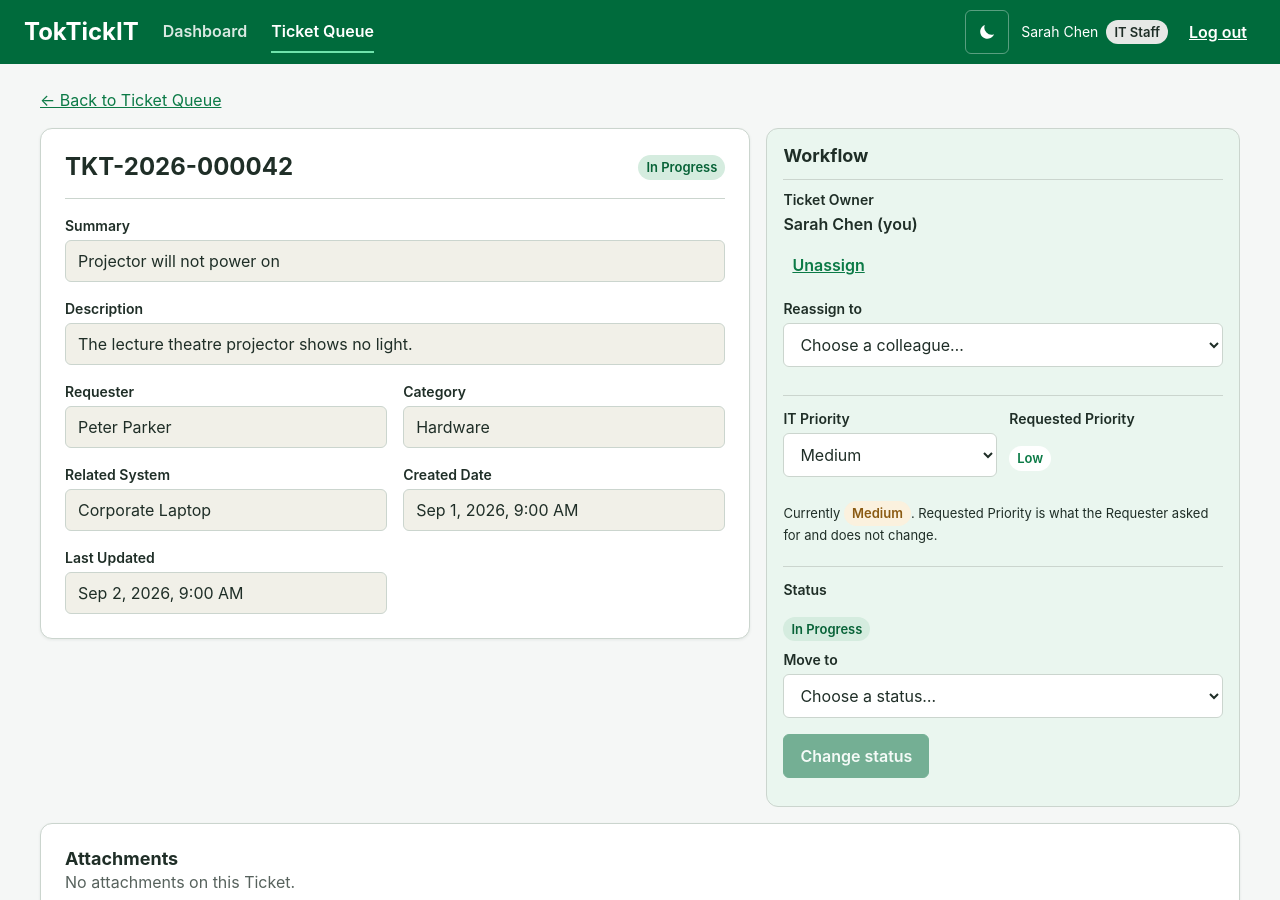
Test: UI-14 a refused change (AC-29) › shows the stale message beside the control and brings the Ticket up to date
Expected: the heading "TKT-2026-000042" is shown, x1=65 y1=153 x2=293 y2=182
Select "Waiting for Requester" in the dropdown labelled "Move to" at (1003, 696), box x1=783 y1=674 x2=1223 y2=718
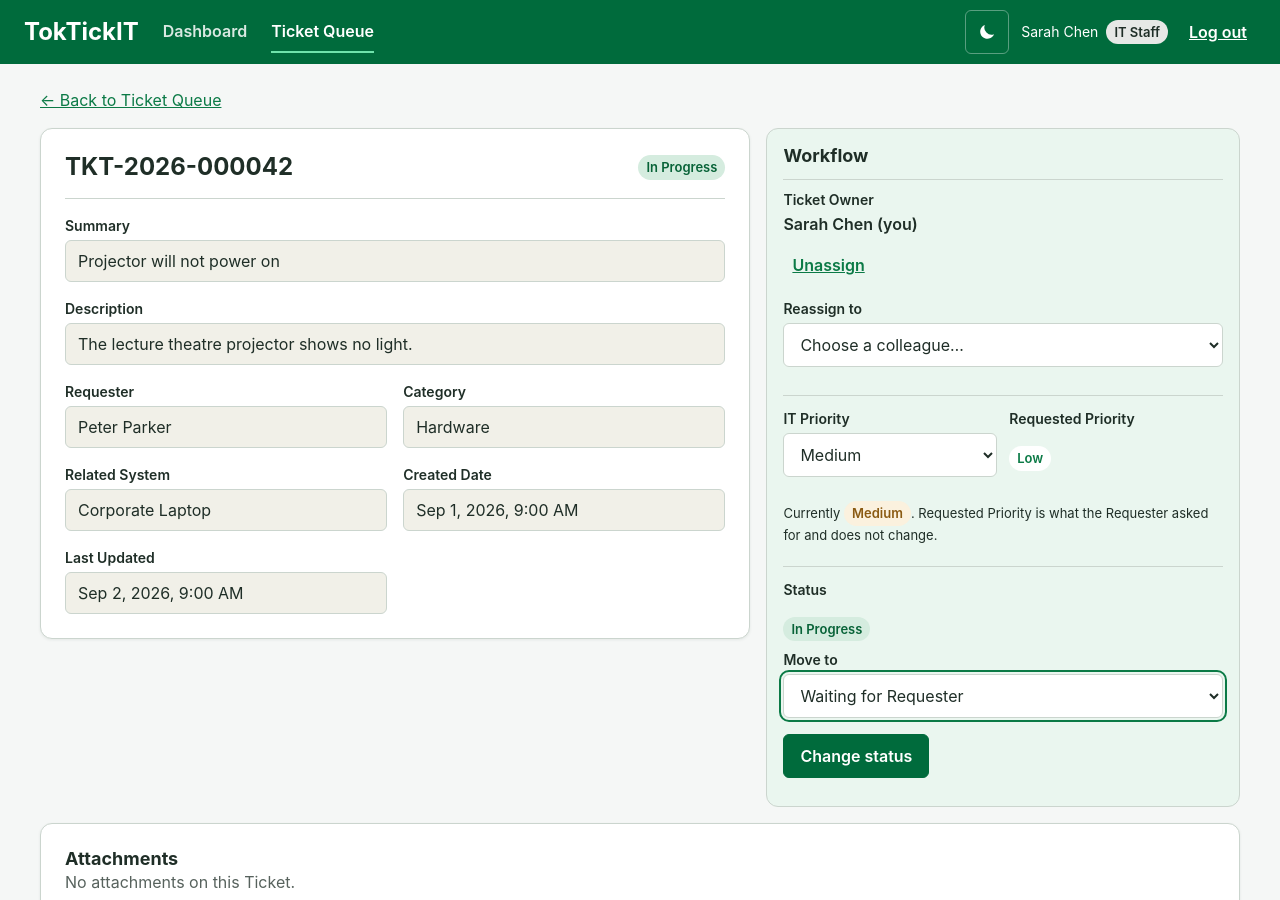
Click the button "Change status" at (856, 756), box x1=783 y1=734 x2=929 y2=778
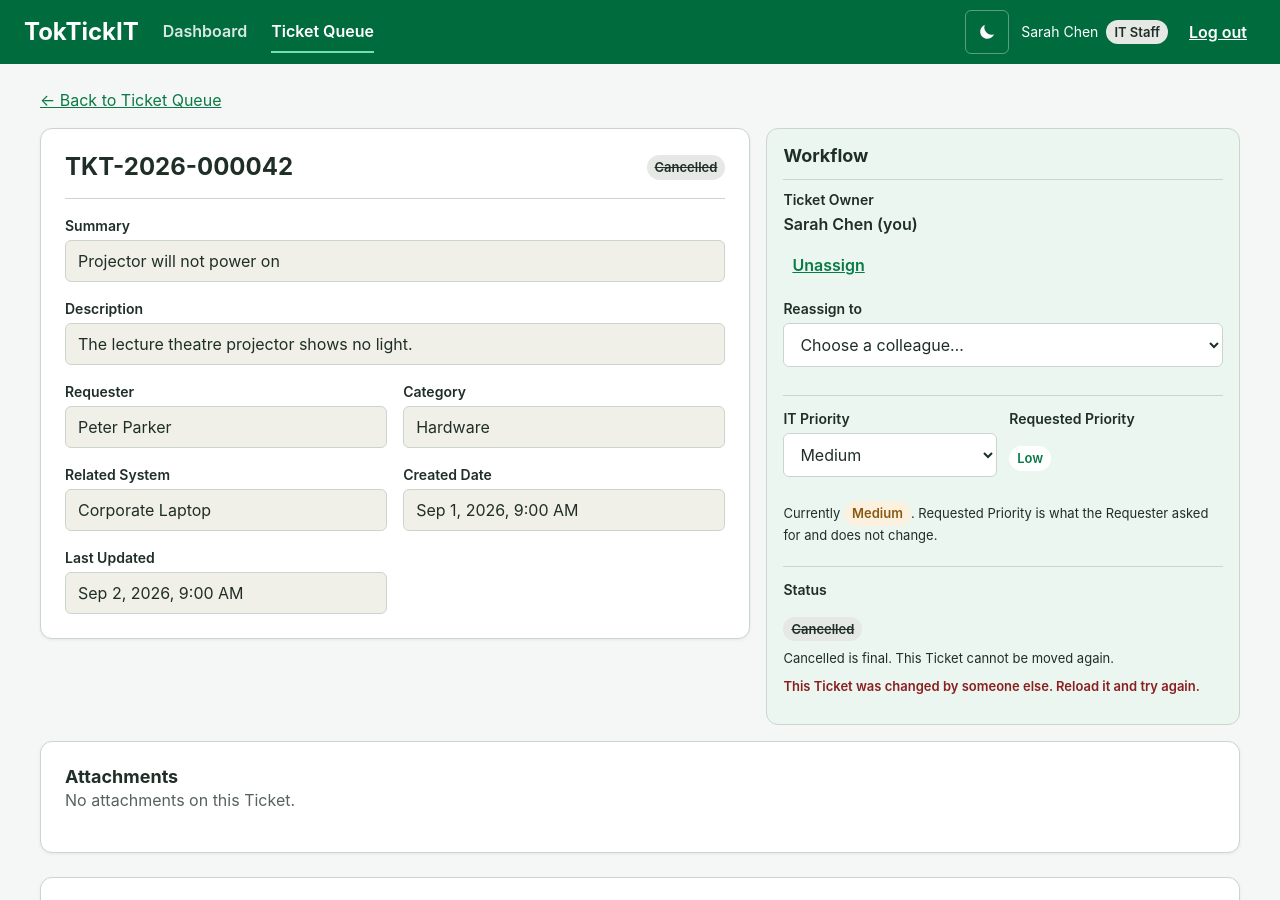
Now the text "Cancelled" in the row of "TKT-2026-000042" is shown, box x1=654 y1=159 x2=717 y2=175
Now the label labelled "Move to" is gone
Now the text "This Ticket was changed by someone else. Reload it and try again." is shown, box x1=783 y1=677 x2=1223 y2=696
